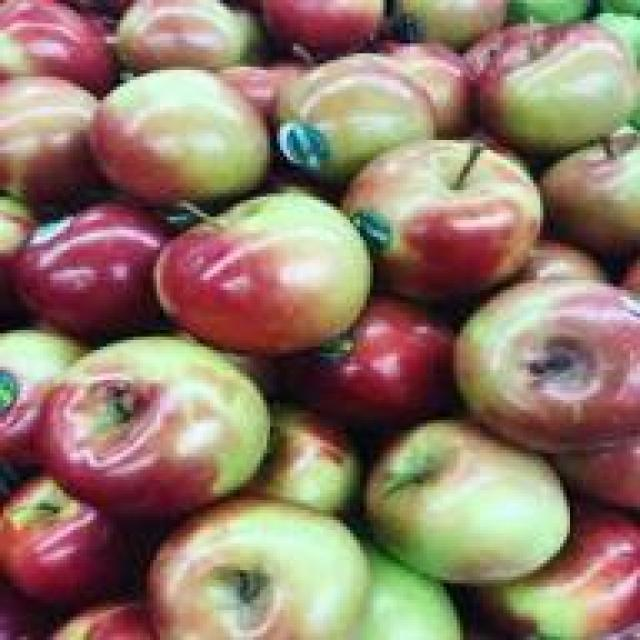apple: (23, 337, 270, 503), (134, 500, 394, 640), (367, 414, 573, 564), (153, 203, 370, 337), (450, 290, 640, 443), (347, 133, 543, 277), (90, 64, 273, 214), (257, 46, 440, 196), (20, 206, 183, 346), (480, 27, 633, 166), (306, 297, 446, 430), (7, 483, 136, 607)
